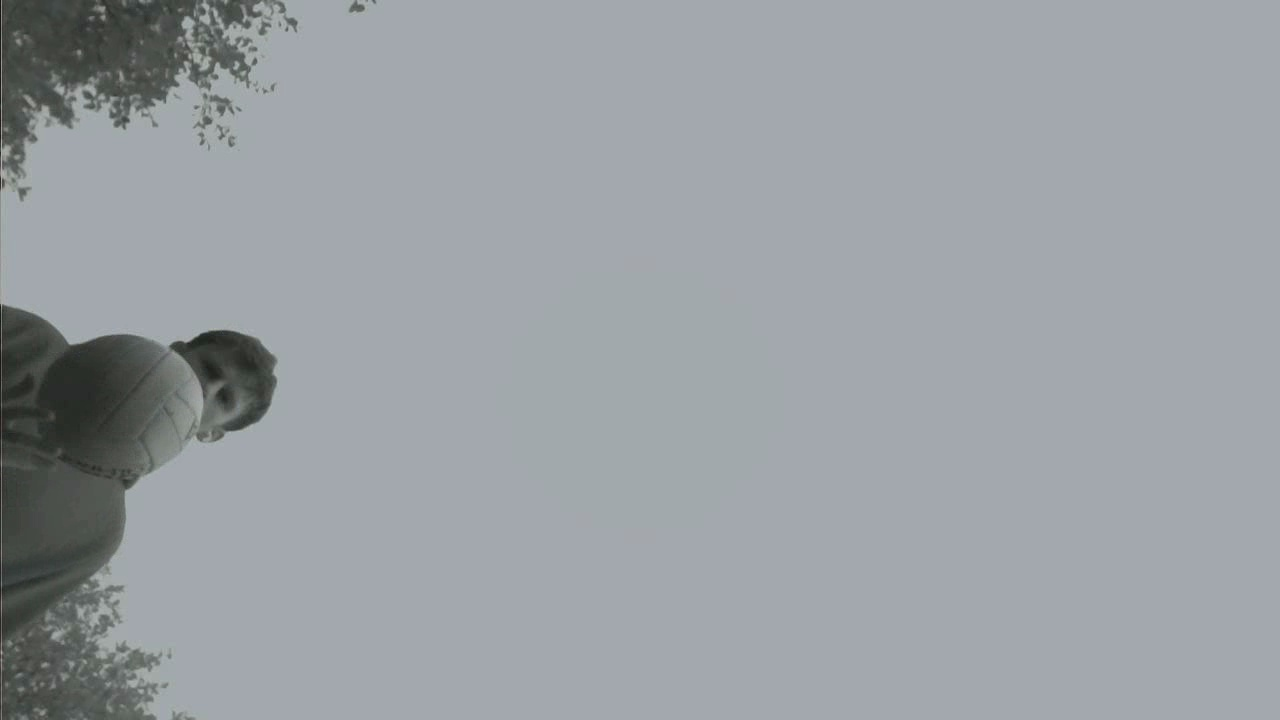Football-Spotter: (38, 334, 203, 485)
